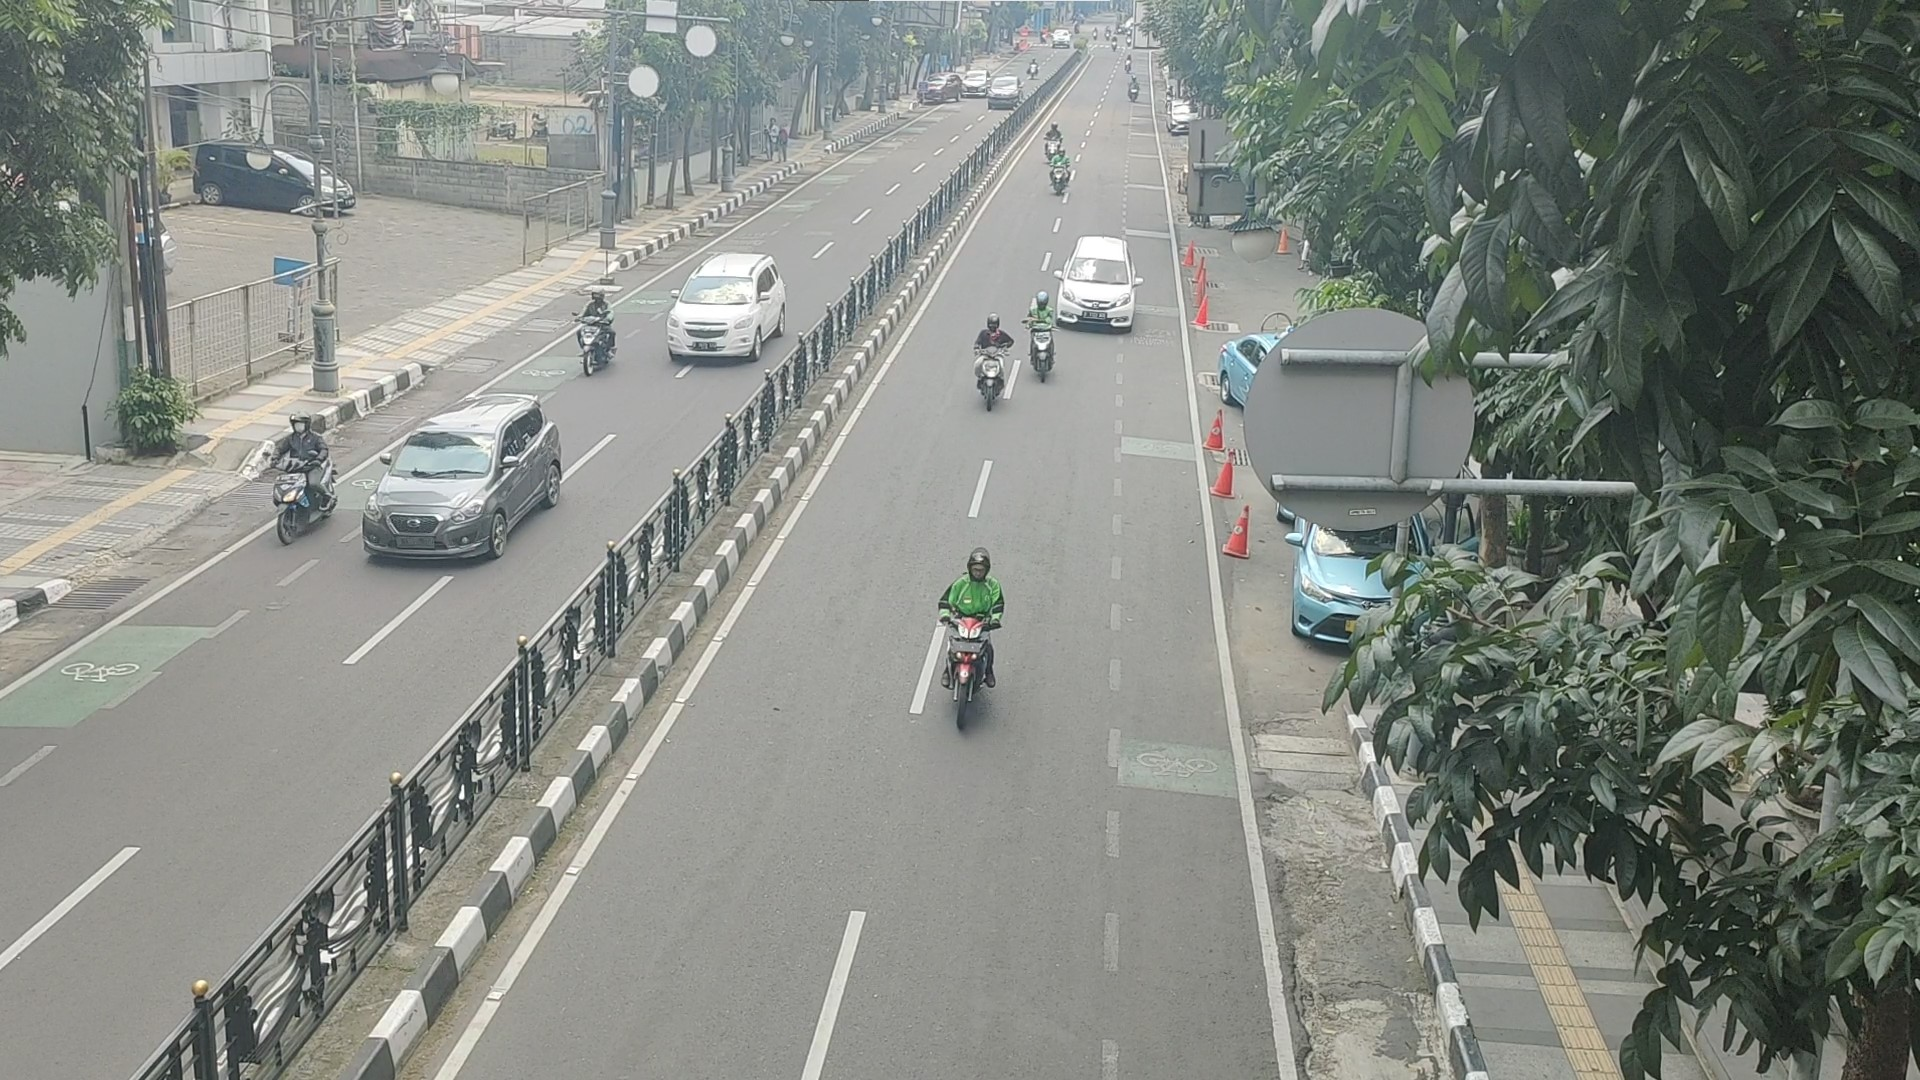mobil: (359, 392, 568, 570), (665, 251, 787, 367), (1058, 233, 1145, 338)
motor: (934, 545, 1010, 746), (264, 410, 345, 551), (971, 309, 1014, 415), (570, 284, 618, 378), (1021, 290, 1063, 386), (1044, 146, 1075, 204), (1040, 119, 1065, 164)
